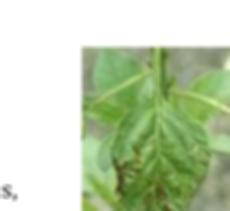Tomato leaf bacterial spot: (110, 95, 210, 211)
